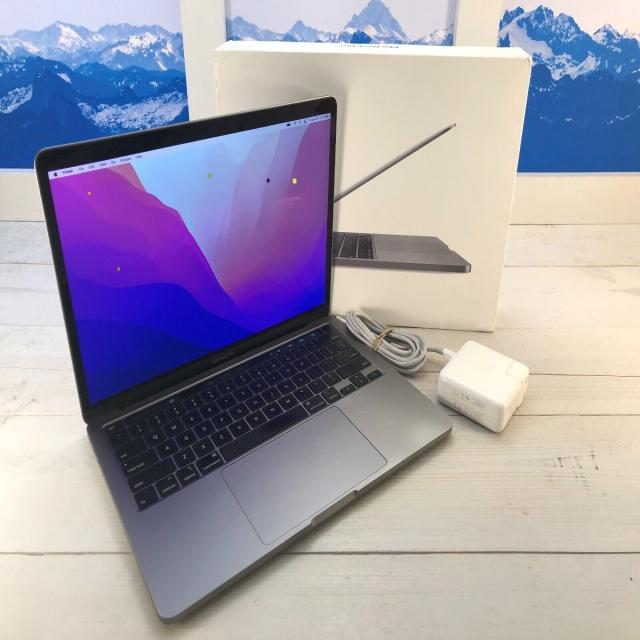dead_pixel: (208, 173, 211, 178), (293, 179, 296, 183), (117, 267, 120, 270), (267, 179, 269, 182), (88, 192, 90, 194), (190, 223, 192, 225)
